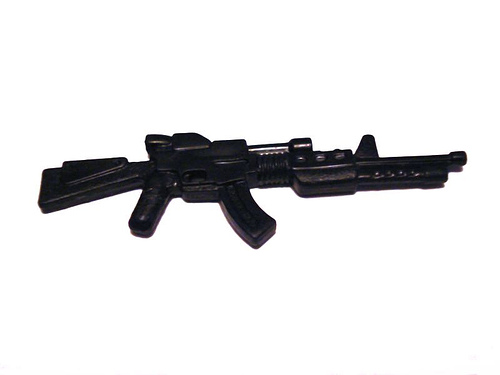rifle: (31, 93, 471, 278)
